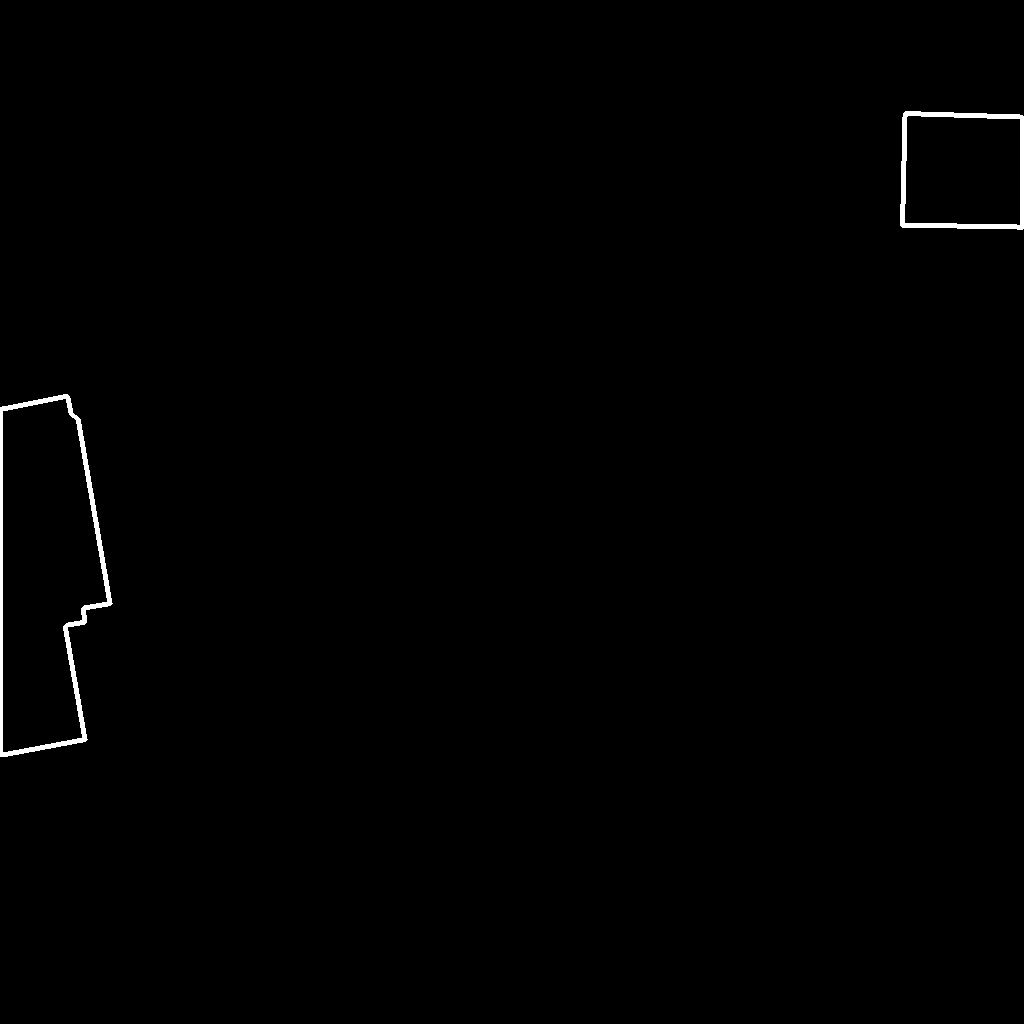building: (0, 396, 111, 807), (902, 113, 1024, 228)
